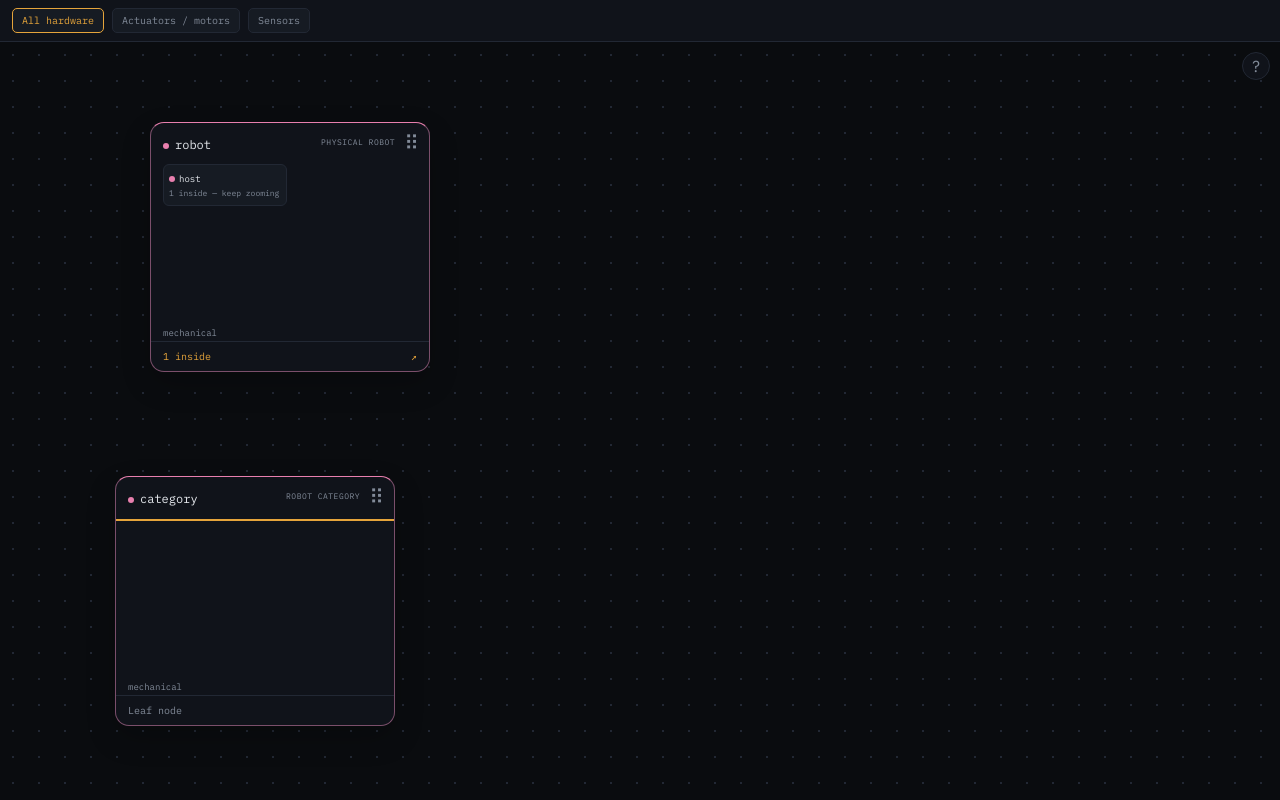
Scenario: mounts the real connection card on a USB endpoint and never on the host brain
The width and height of the screenshot is (1280, 800).
Check: the button "Actuators / motors" is shown, box [112, 8, 240, 33]
Double-click the button "robot physical robot" at (193, 144), box [151, 123, 429, 162]
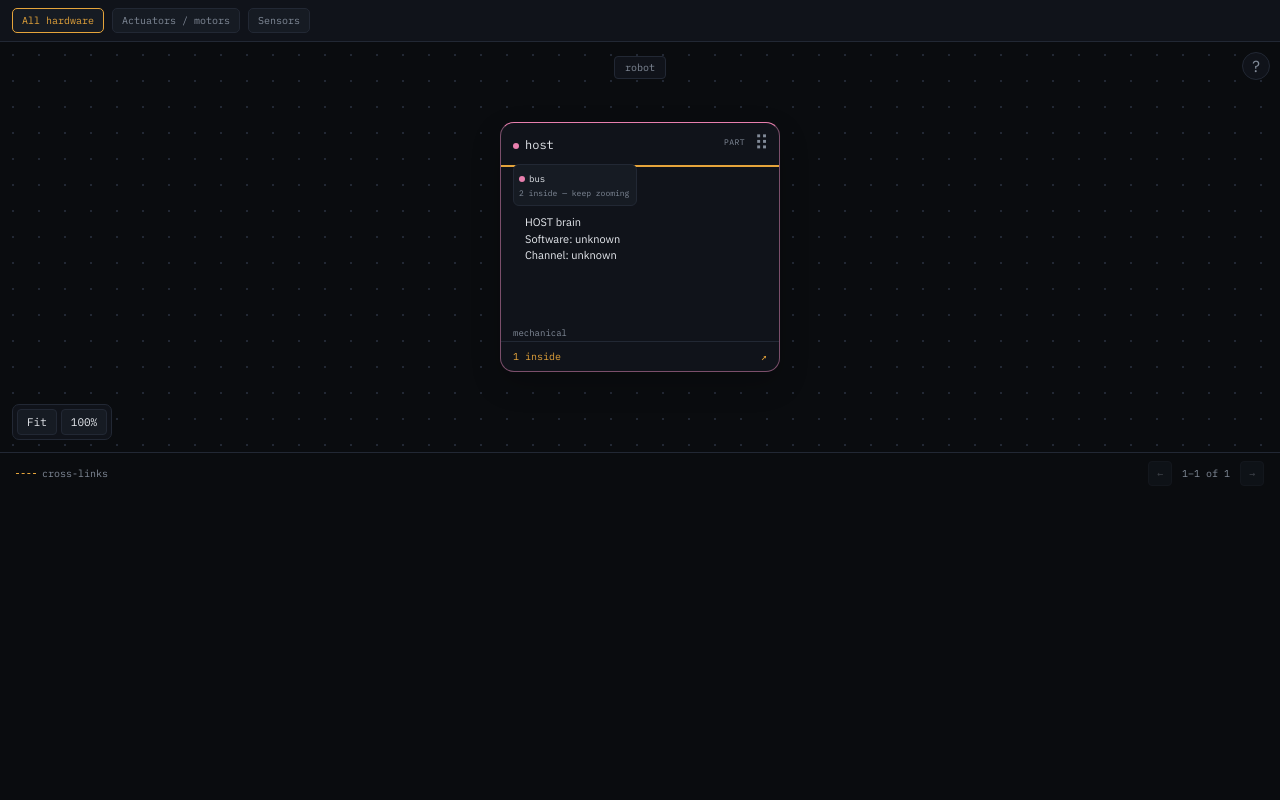
Check: the button "Connect this computer" is not shown
Double-click the button "host part" at (516, 146), box [501, 123, 779, 162]
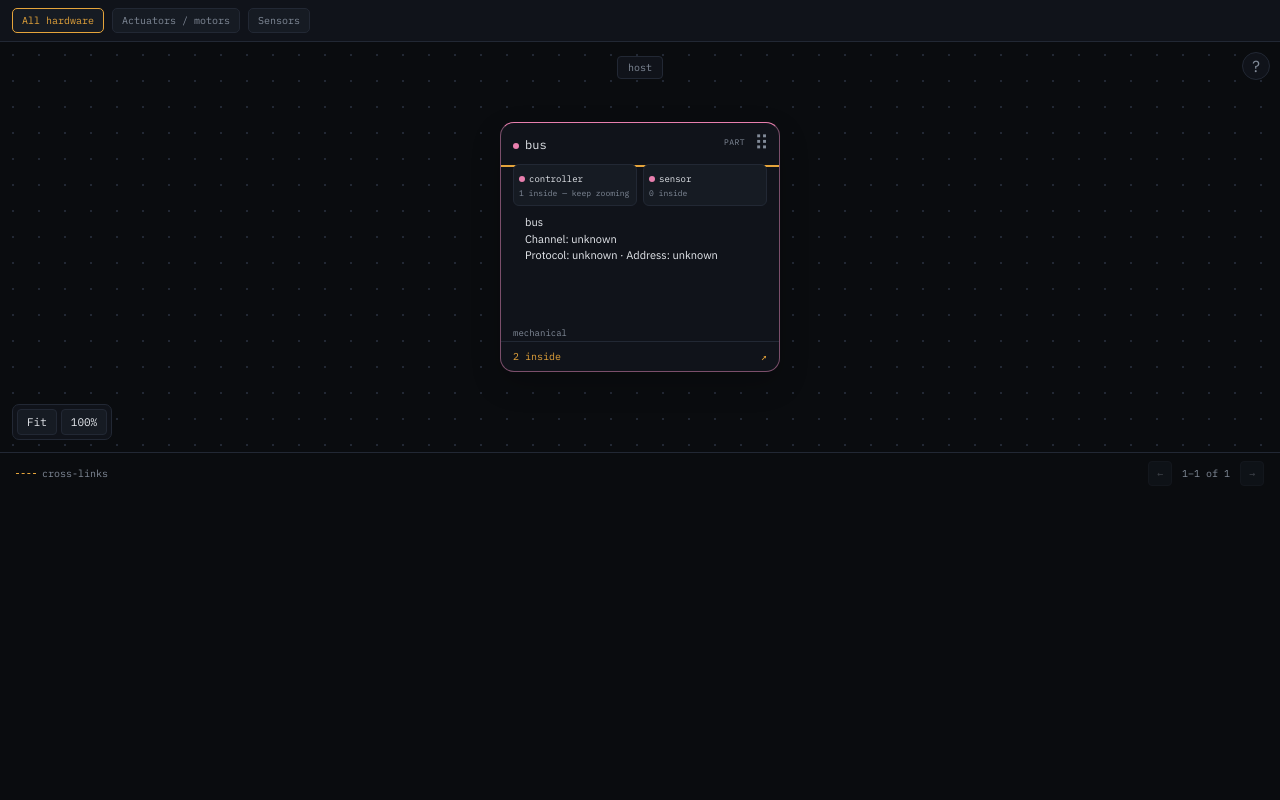
Double-click the button "bus part" at (516, 146), box [501, 123, 779, 162]
(page scrolled)
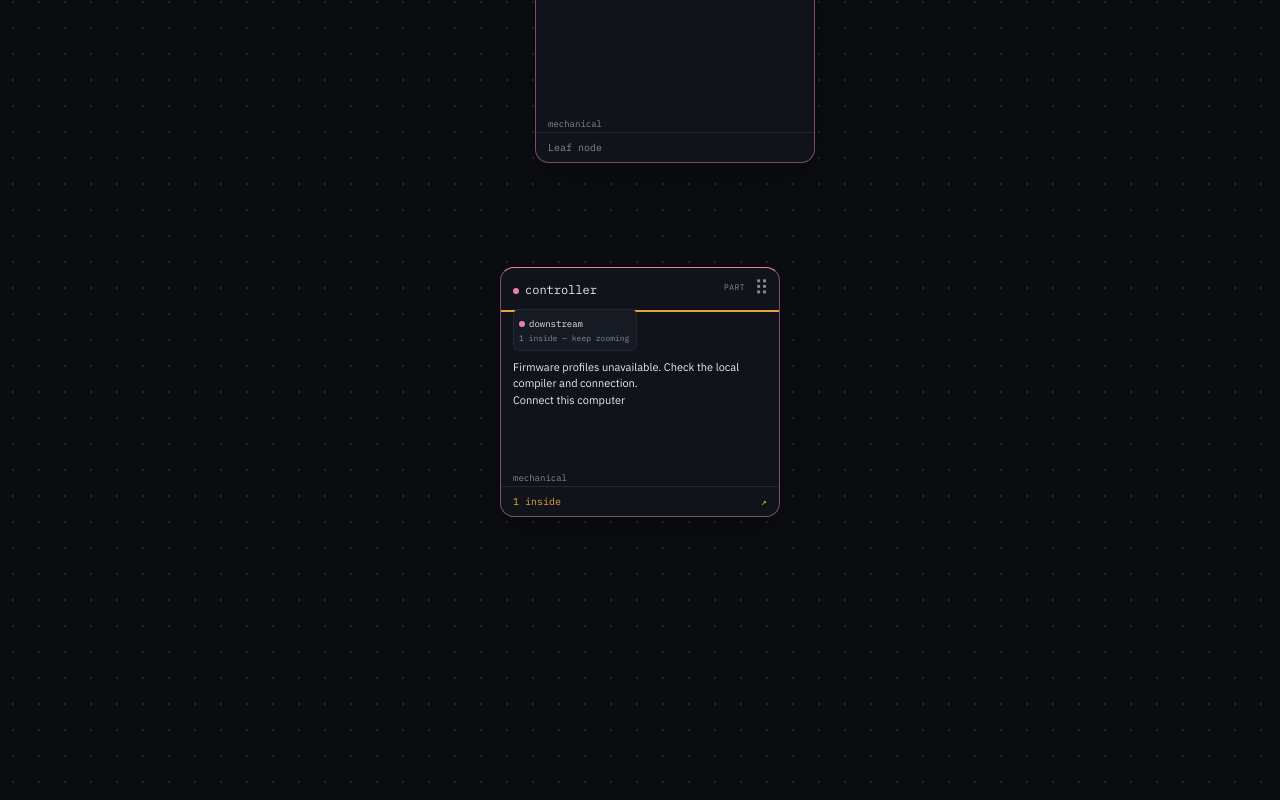
Check: the button "Connect this computer" is shown, box [513, 392, 625, 408]
